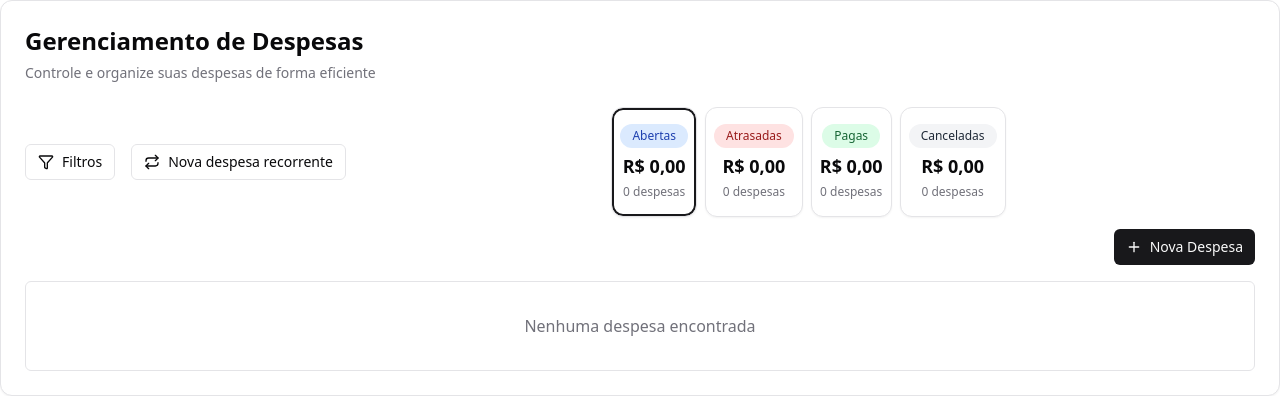
Scenario: ExpensesPage Integration › full filter change flow › should handle clear filters button on main page
The width and height of the screenshot is (1280, 413).
Click the element with test id "status-card-open". click: coordinates (654, 162)
box: [611, 107, 697, 217]
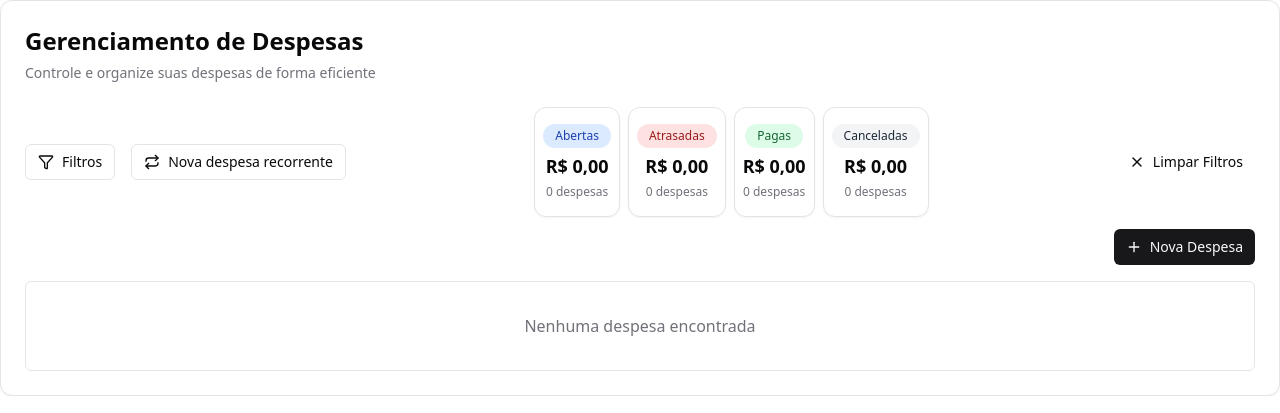
Now the button with test id "clear-filters-button" is shown
Click the button with test id "clear-filters-button". click: coordinates (1186, 162)
box: [1117, 144, 1255, 180]
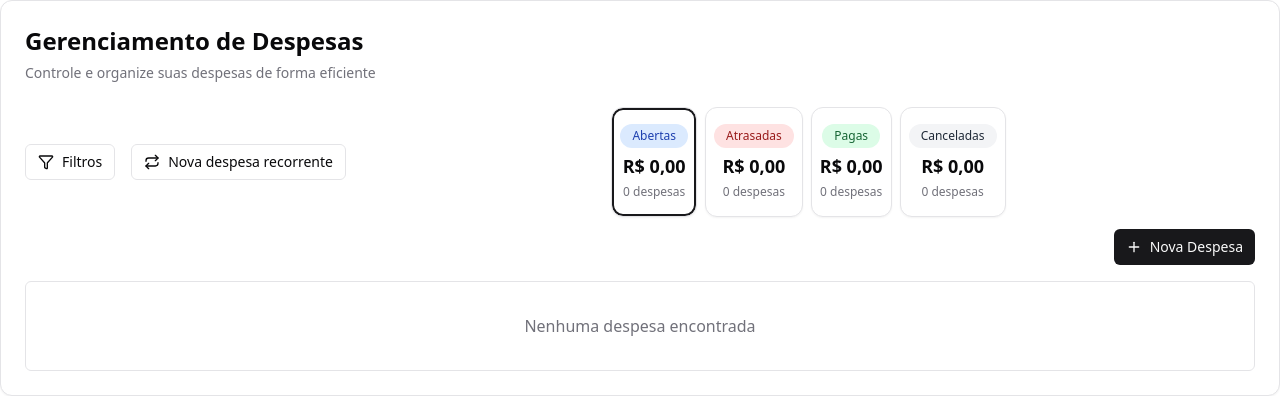
Now the button with test id "clear-filters-button" is gone
